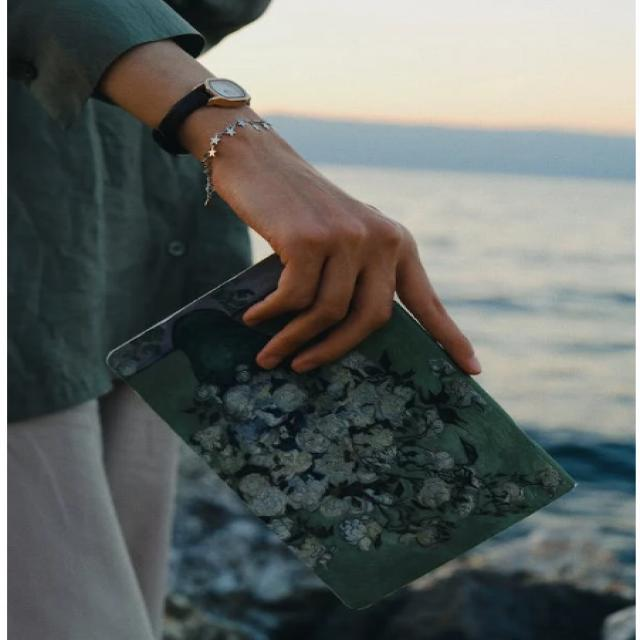Watch: (147, 76, 254, 152)
